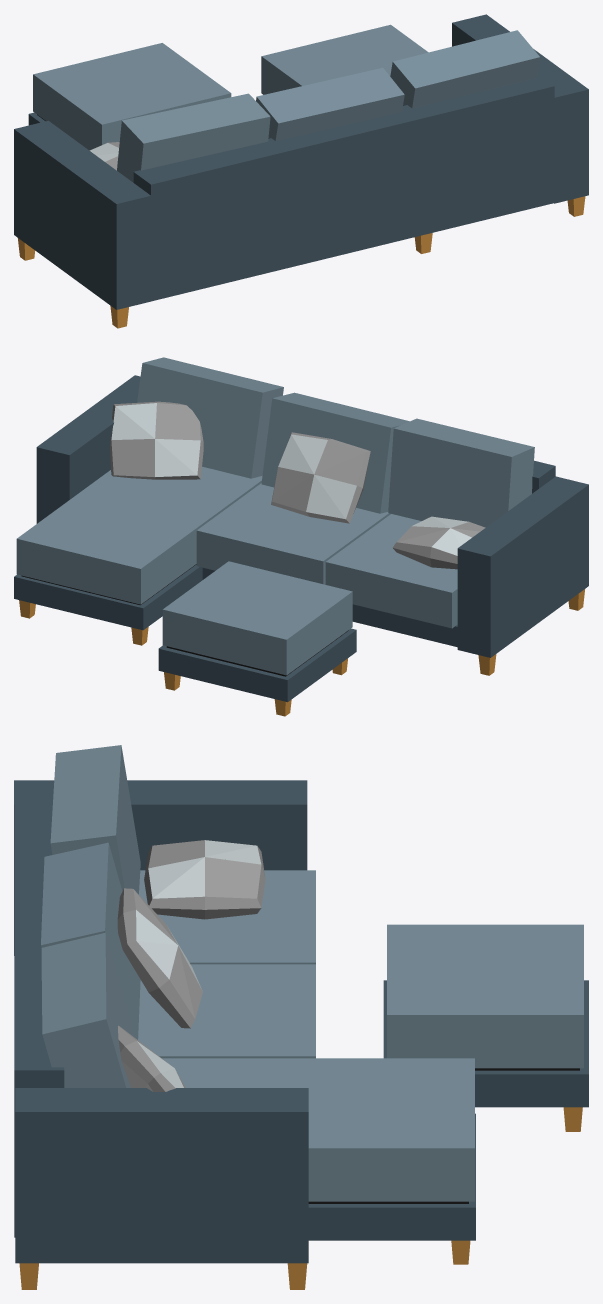
The model's file is Couch.glb.
3 renders of one model, top to bottom at view 1: azimuth 30°, elevation 25°; view 2: azimuth 150°, elevation 25°; view 3: azimuth 270°, elevation 25°, orthographic. The views are drawn at different scales.
Parts seen in each view (by area): view 1: group1177553632, group555617489, group1633872756, group1082007962, group384254947, group1730164428, group1099761130, group1314930489, group1922069655; view 2: group1633872756, group1099761130, group555617489, group1082007962, group198131767, group384254947, group737595770, group1730164428, group508393492, group1307475515, group1314930489, group1434836141 (+3 smaller); view 3: group1314930489, group1633872756, group1099761130, group198131767, group555617489, group384254947, group1177553632, group737595770, group1082007962, group1922069655, group1730164428, group1434836141 (+2 smaller).
Boxes of the visible parts, x1,y1,x2,y2 form: group1177553632: (133, 74, 554, 301); group555617489: (14, 120, 150, 309); group1633872756: (28, 43, 231, 150); group1082007962: (117, 93, 270, 182); group384254947: (390, 30, 539, 108); group1730164428: (256, 67, 404, 141); group1099761130: (261, 24, 428, 94); group1314930489: (452, 14, 588, 203); group1922069655: (89, 142, 119, 170); group1633872756: (158, 561, 356, 716); group1099761130: (16, 466, 262, 604); group555617489: (457, 476, 588, 657); group1082007962: (388, 418, 534, 527); group198131767: (196, 483, 390, 584); group384254947: (137, 357, 283, 478); group737595770: (325, 514, 457, 628); group1730164428: (261, 392, 409, 513); group508393492: (110, 401, 203, 479); group1307475515: (271, 432, 370, 523); group1314930489: (36, 375, 140, 523); group1434836141: (14, 564, 202, 630); group1314930489: (15, 1088, 308, 1263); group1633872756: (383, 924, 588, 1131); group1099761130: (162, 1058, 474, 1201); group198131767: (138, 964, 315, 1058); group555617489: (14, 780, 307, 955); group384254947: (41, 932, 135, 1087); group1177553632: (14, 789, 64, 1237); group737595770: (139, 870, 315, 964); group1082007962: (50, 745, 140, 894); group1922069655: (144, 840, 265, 919); group1730164428: (41, 842, 140, 1039); group1434836141: (308, 1113, 475, 1240).
Bounding box in the file's own units: 1.86 × 0.6507 × 1.37.
